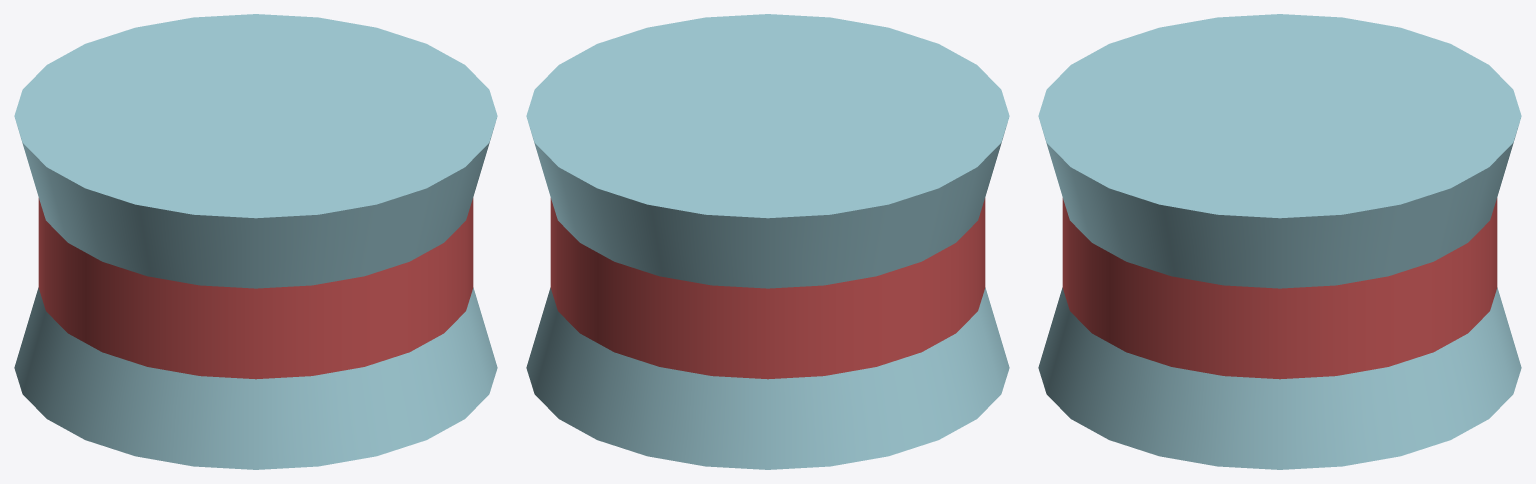
Rendered from towerRound_middleA.dae.
3 views of the same model, side by side, from view 1: azimuth 30°, elevation 25°; view 2: azimuth 150°, elevation 25°; view 3: azimuth 270°, elevation 25° (orthographic).
Parts seen in each view (by area): view 1: towerRound_middleA; view 2: towerRound_middleA; view 3: towerRound_middleA.
Boxes of the visible parts, box(x1,y1,x2,y2) form: towerRound_middleA: box(14, 14, 497, 469); towerRound_middleA: box(526, 14, 1009, 469); towerRound_middleA: box(1038, 14, 1521, 469).
Bounding box in the file's own units: 0.87 × 0.5 × 0.87.
